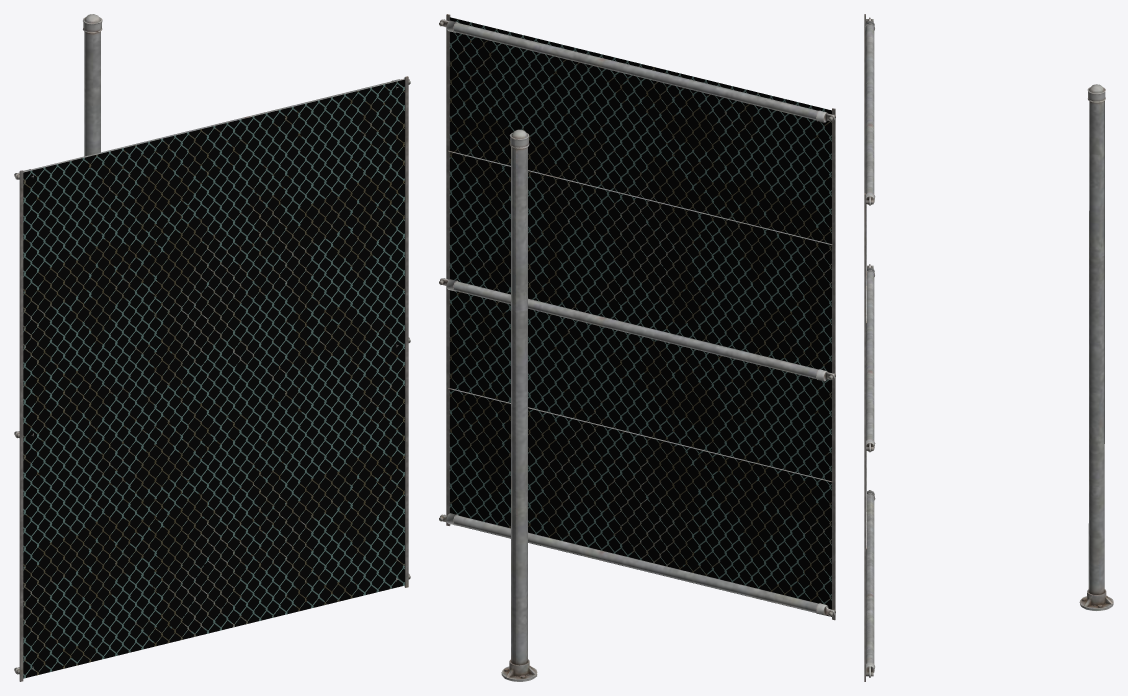
Rendered from SecurityFence.glb.
3 renders of one model, left to right at view 1: azimuth 30°, elevation 25°; view 2: azimuth 150°, elevation 25°; view 3: azimuth 270°, elevation 25°, orthographic. The views are drawn at different scales.
Parts seen in each view (by area): view 1: modular_chainlink_fence_double, modular_chainlink_fence_post; view 2: modular_chainlink_fence_double, modular_chainlink_fence_post; view 3: modular_chainlink_fence_post, modular_chainlink_fence_double.
Boxes of the visible parts, left/top/right/bottom form: modular_chainlink_fence_double: left=14, top=76, right=410, bottom=681; modular_chainlink_fence_post: left=83, top=14, right=102, bottom=156; modular_chainlink_fence_double: left=439, top=14, right=835, bottom=620; modular_chainlink_fence_post: left=501, top=129, right=537, bottom=681; modular_chainlink_fence_post: left=1079, top=84, right=1113, bottom=610; modular_chainlink_fence_double: left=864, top=14, right=875, bottom=681.
Bounding box in the file's own units: 1.91 × 2.52 × 1.1.
2 materials, 2 textured.
